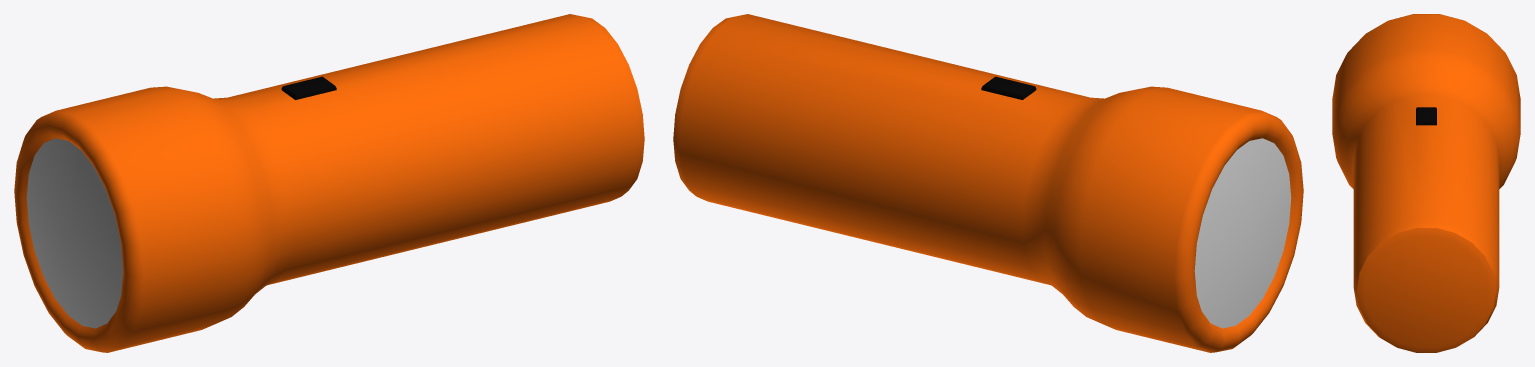
Rendered from TORCH.fbx.
3 views of the same model, side by side, from view 1: azimuth 30°, elevation 25°; view 2: azimuth 150°, elevation 25°; view 3: azimuth 270°, elevation 25° (orthographic). The views are drawn at different scales.
Parts seen in each view (by area): view 1: torch, button; view 2: torch, button; view 3: torch, button.
Boxes of the visible parts, box(x1,y1,x2,y2) form: torch: box(14, 14, 644, 352); button: box(281, 76, 336, 99); torch: box(673, 14, 1303, 352); button: box(981, 76, 1036, 99); torch: box(1332, 14, 1520, 352); button: box(1416, 107, 1436, 125).
Bounding box in the file's own units: 498 × 198 × 200.
